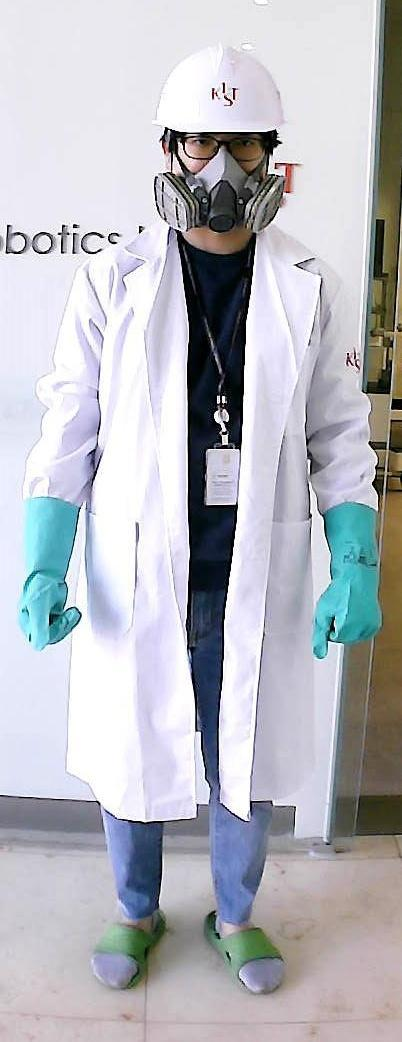lab_coat: (79, 254, 322, 797)
